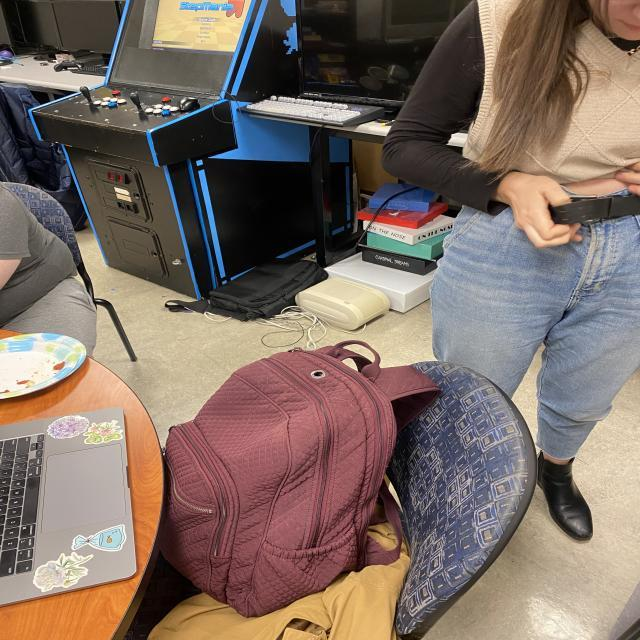Backpacks: (168, 343, 426, 610)
